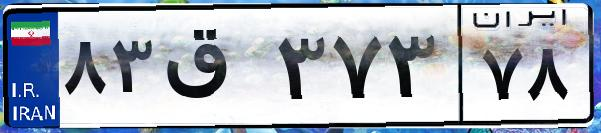3: (270, 28, 330, 110), (385, 28, 445, 110), (110, 28, 158, 98)
7: (330, 28, 385, 110), (475, 38, 525, 113)
8: (57, 26, 110, 100), (525, 38, 570, 115)
ق: (158, 20, 270, 120)
